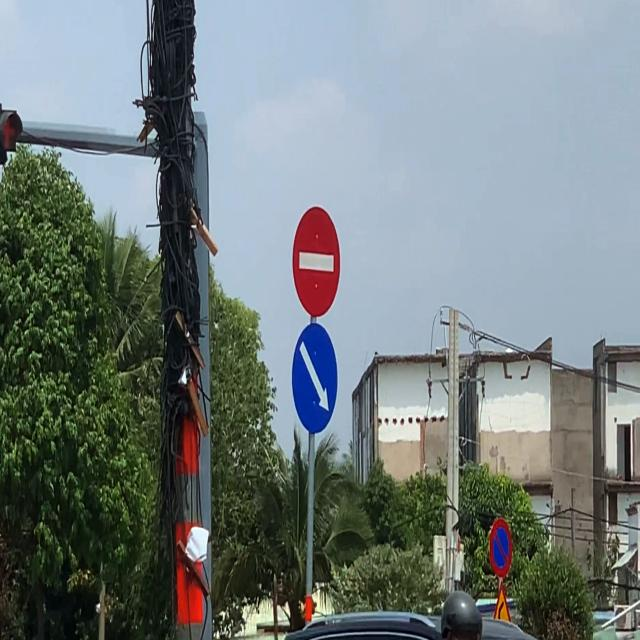Cam do: (489, 517, 513, 577)
Cam nguoc chieu: (292, 205, 341, 318)
Hieu lenh: (291, 322, 338, 434)
Nguy hiem: (490, 580, 512, 632)
